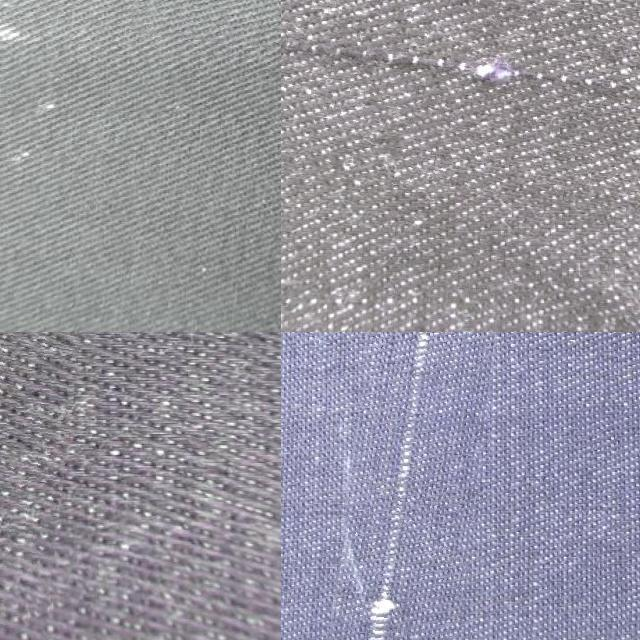stains: (281, 0, 640, 207), (337, 332, 503, 640), (0, 332, 83, 640)
